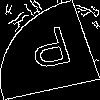P: (25, 25, 78, 79)
